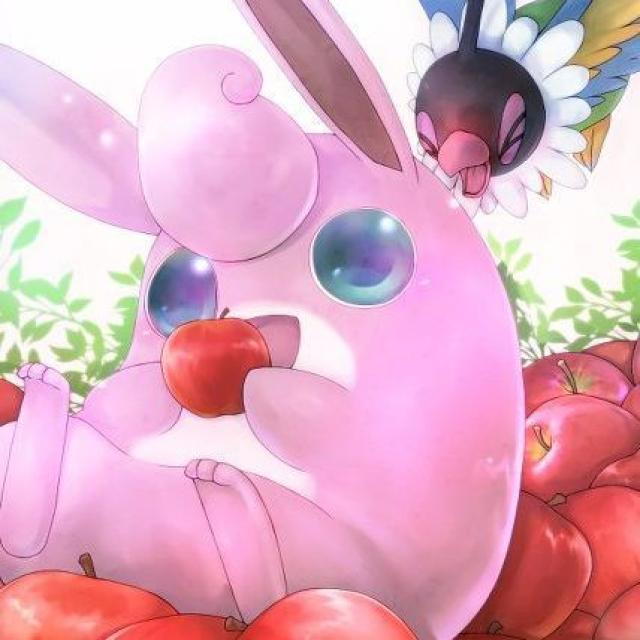Wigglytuff: (0, 0, 418, 633)
